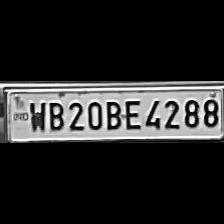0: (83, 98, 103, 130)
2: (64, 98, 84, 132), (160, 96, 180, 130)
4: (142, 96, 162, 130)
8: (180, 95, 200, 129), (200, 96, 218, 128)
B: (44, 100, 64, 132), (102, 98, 122, 130)
E: (122, 96, 140, 130)
W: (27, 100, 45, 132)
